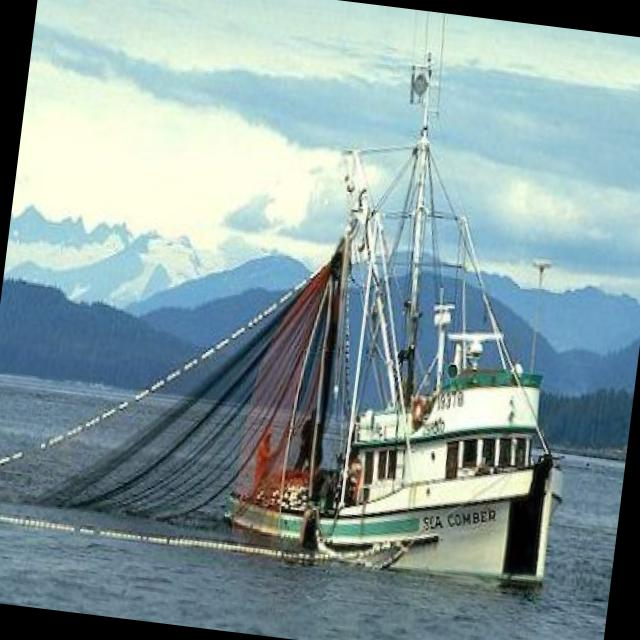boat: (200, 101, 612, 606)
